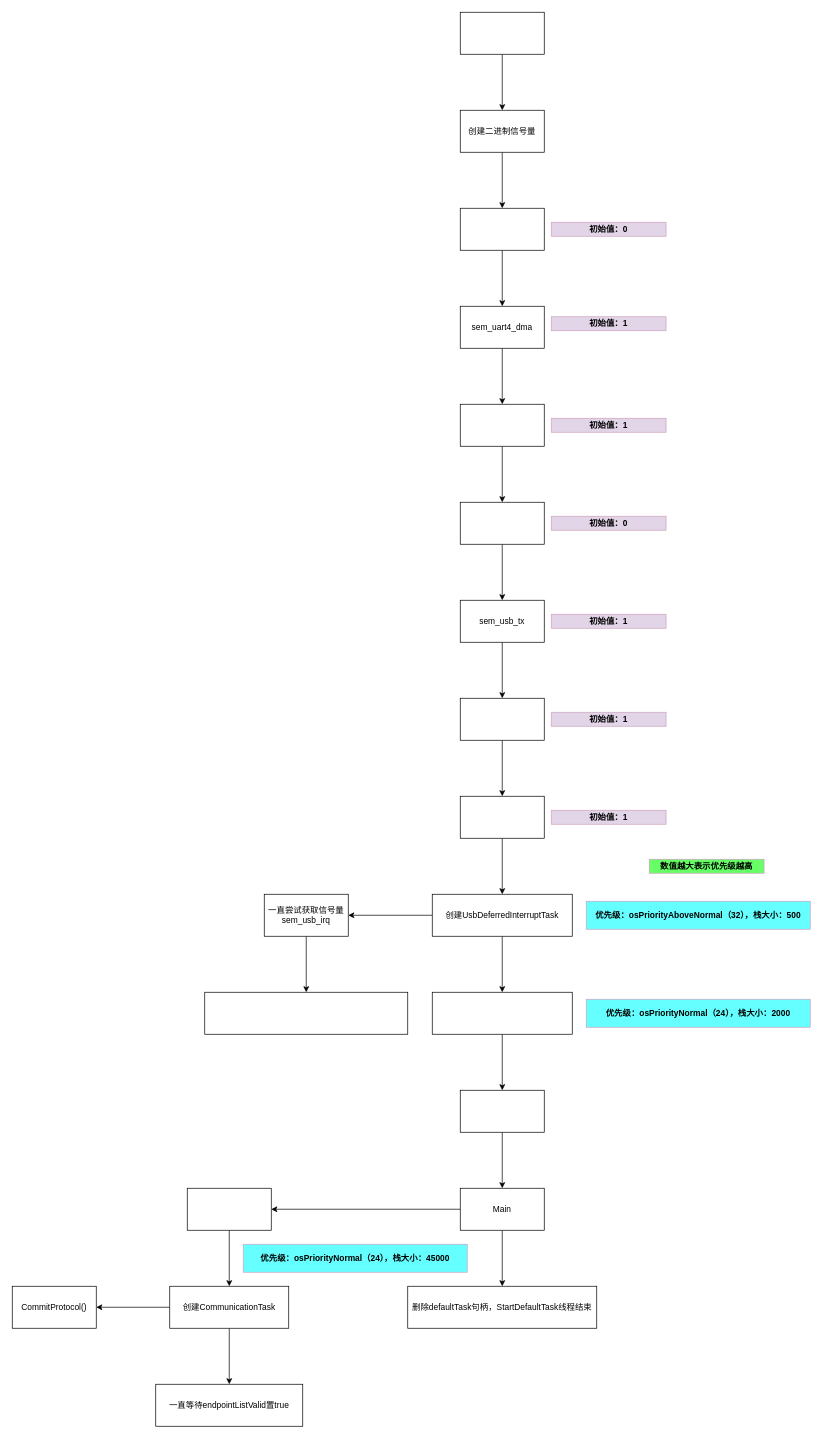
This 823x1439 diagram has some shape labels left out. Each missing label, with the box of its shape:
InitCommunication(): (187, 1188, 271, 1230)
MX_FREERTOS_Init: (460, 12, 544, 54)
sem_can1_tx: (460, 698, 544, 740)
sem_can2_tx: (460, 796, 544, 838)
sem_uart5_dma: (460, 404, 544, 446)
sem_usb_irq: (460, 208, 544, 250)
sem_usb_rx: (460, 502, 544, 544)
USB设备初始化: (460, 1090, 544, 1132)
创建StartDefaultTask: (432, 992, 572, 1034)
由于初始设置为0，并且在其他地方也没有释放，则if(semaphore_status == osOK)应该不会执行，待定: (204, 992, 408, 1034)
